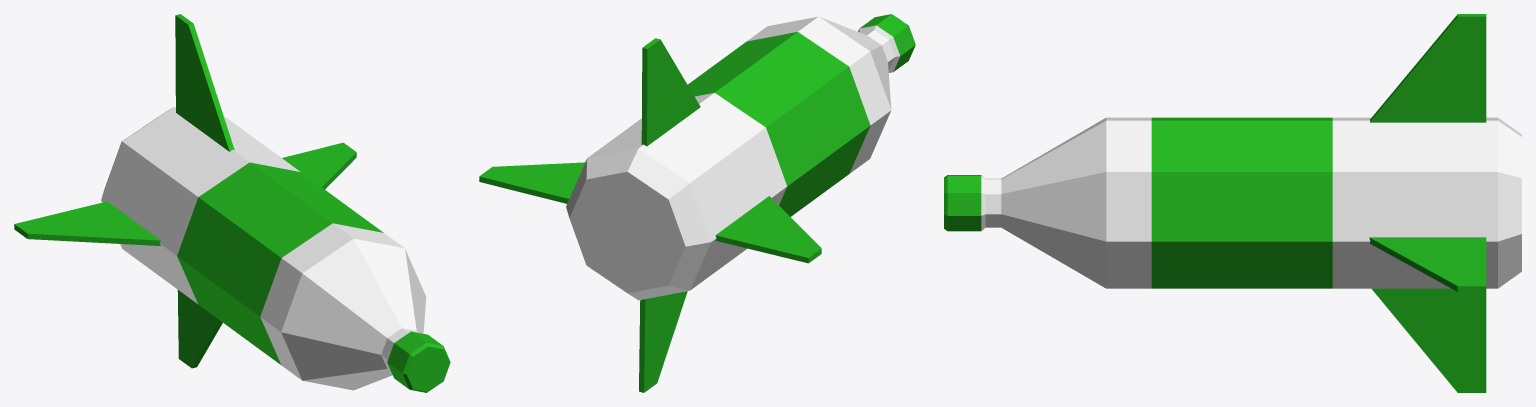
Rendered from PetBottle_Rocket_Green_2.fbx.
3 renders of one model, left to right at view 1: azimuth 30°, elevation 25°; view 2: azimuth 150°, elevation 25°; view 3: azimuth 270°, elevation 25°, orthographic. The views are drawn at different scales.
Parts seen in each view (by area): view 1: PetBottle1; view 2: PetBottle1; view 3: PetBottle1.
Part boxes in pixels (x1,y1,x2,y2): PetBottle1: (14, 14, 450, 392); PetBottle1: (479, 14, 915, 392); PetBottle1: (944, 14, 1521, 392).
Bounding box in the file's own units: 31.75 × 31.75 × 44.4.
